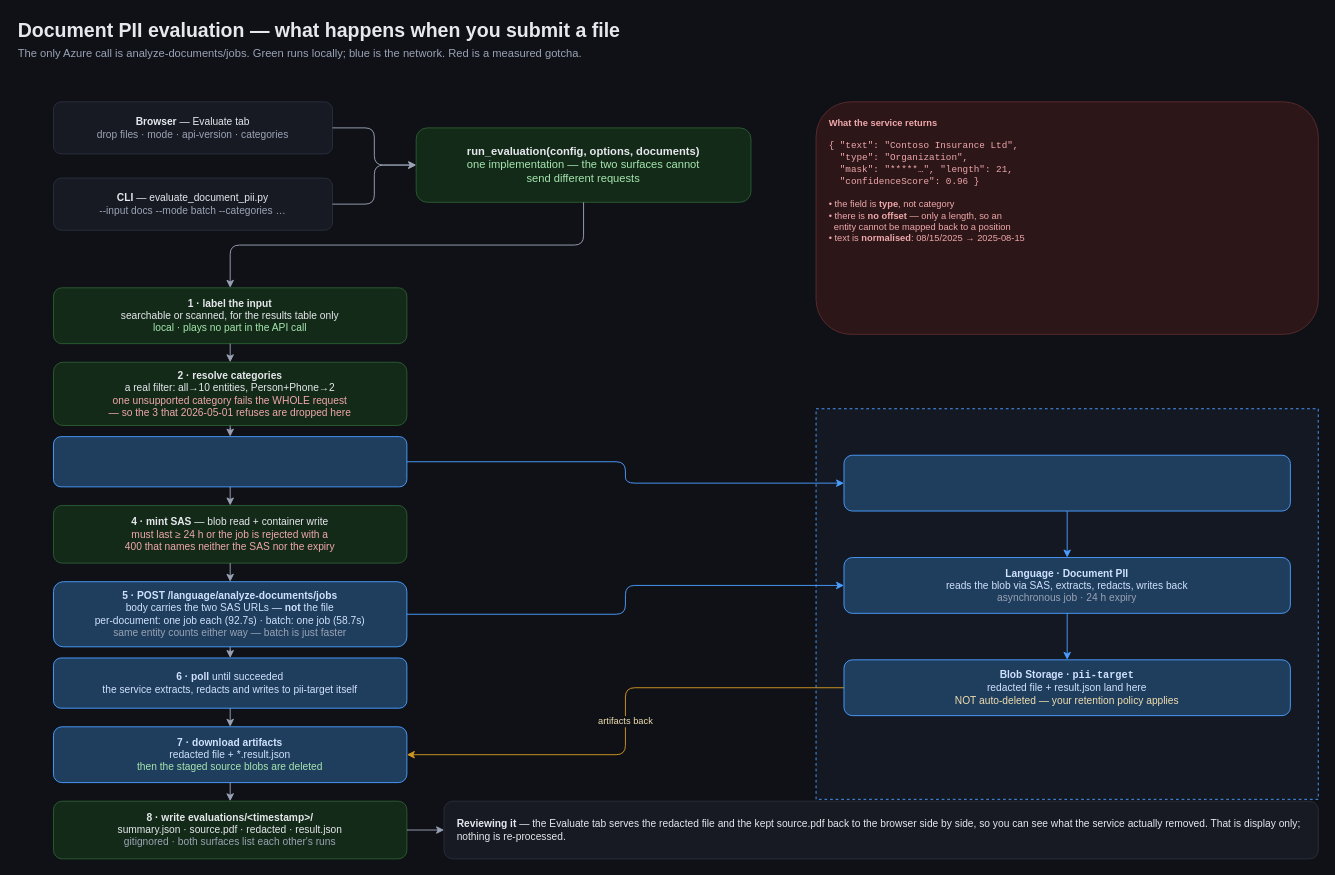
The diagram is 1335 pixels wide and 875 high, and some of its shapes have lost their labels. Each missing label, with the box of its shape:
3 · upload to pii-source the API cannot take an uploaded file — it reads a blob: (53, 436, 407, 487)
AZURE — resources in your own subscription: (815, 408, 1318, 799)
Blob Storage · pii-source the document is stored here deleted after each run: (843, 454, 1290, 511)
